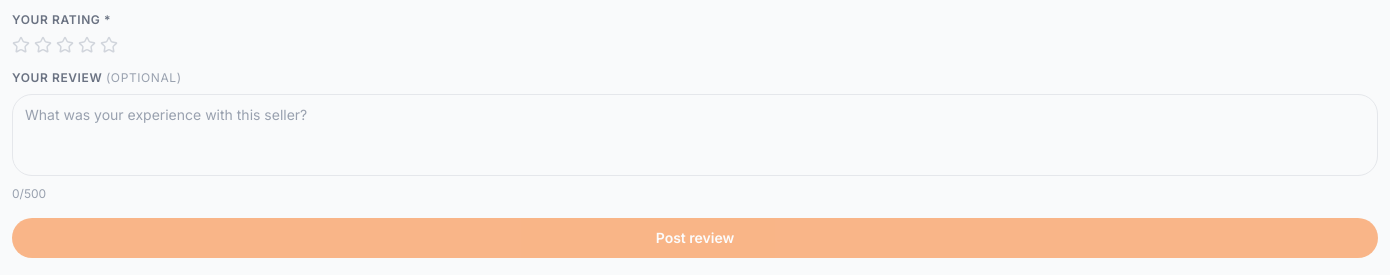
Test: ReviewForm › submit button becomes enabled after selecting a star rating
Click the radio button named "5 stars" at (109, 45), box [100,36,118,54]
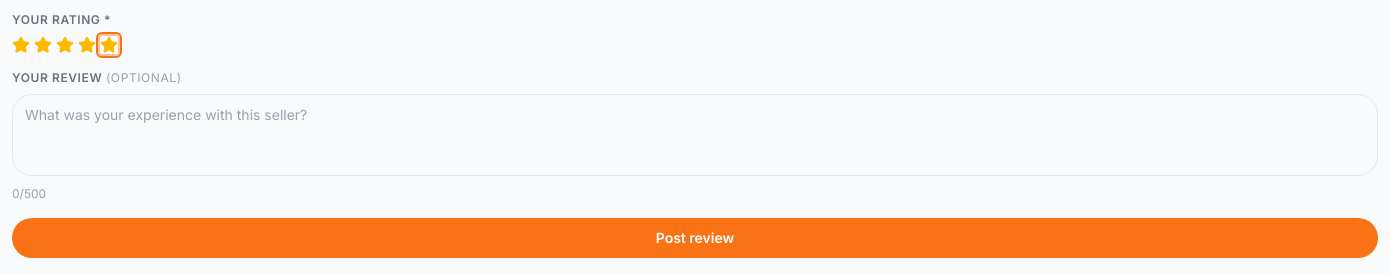
expect the button "Post review" is enabled: met, box [12,218,1378,258]
